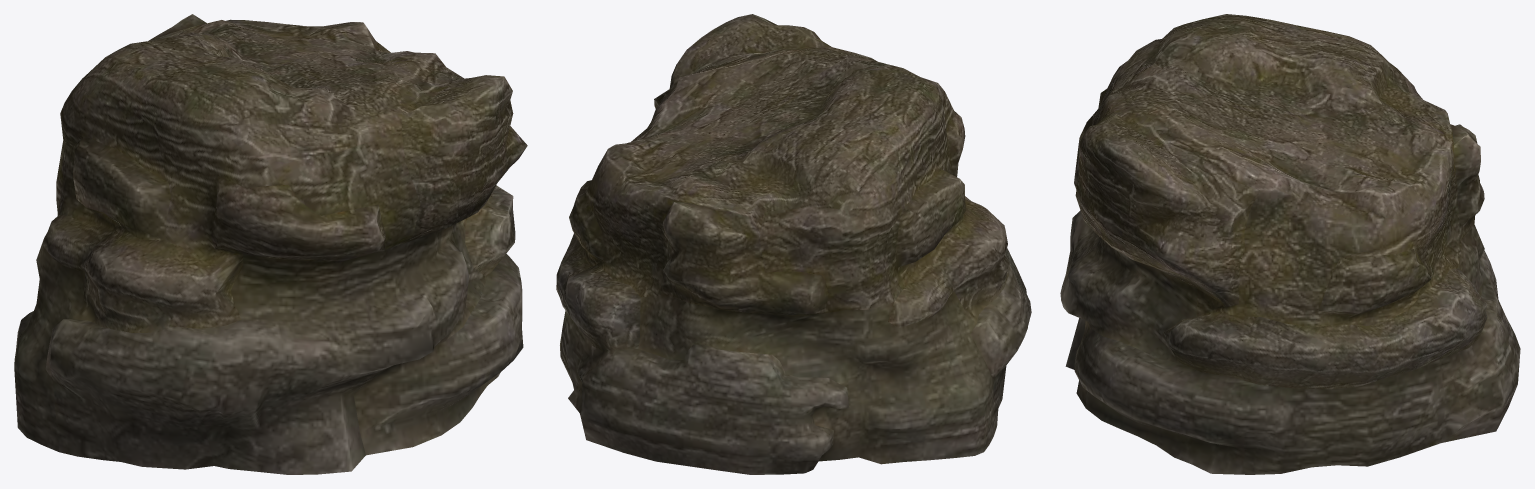
File: Cliff_02-transformed.glb
The picture shows the model from 3 angles, left to right: view 1: azimuth 30°, elevation 25°; view 2: azimuth 150°, elevation 25°; view 3: azimuth 270°, elevation 25°; orthographic projection. The views are drawn at different scales.
Visible parts, largest first — view 1: default; view 2: default; view 3: default.
Boxes of the visible parts, <box> form: default: <box>14,14,527,474</box>; default: <box>556,14,1031,474</box>; default: <box>1060,14,1520,474</box>.
Bounding box in the file's own units: 7.5 × 5.57 × 7.06.
1 material, 1 textured.
